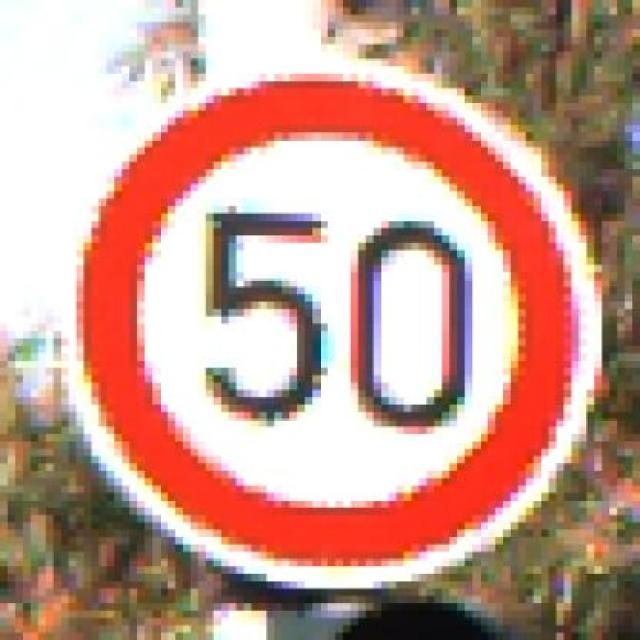Speed limit 50: (74, 72, 603, 589)
